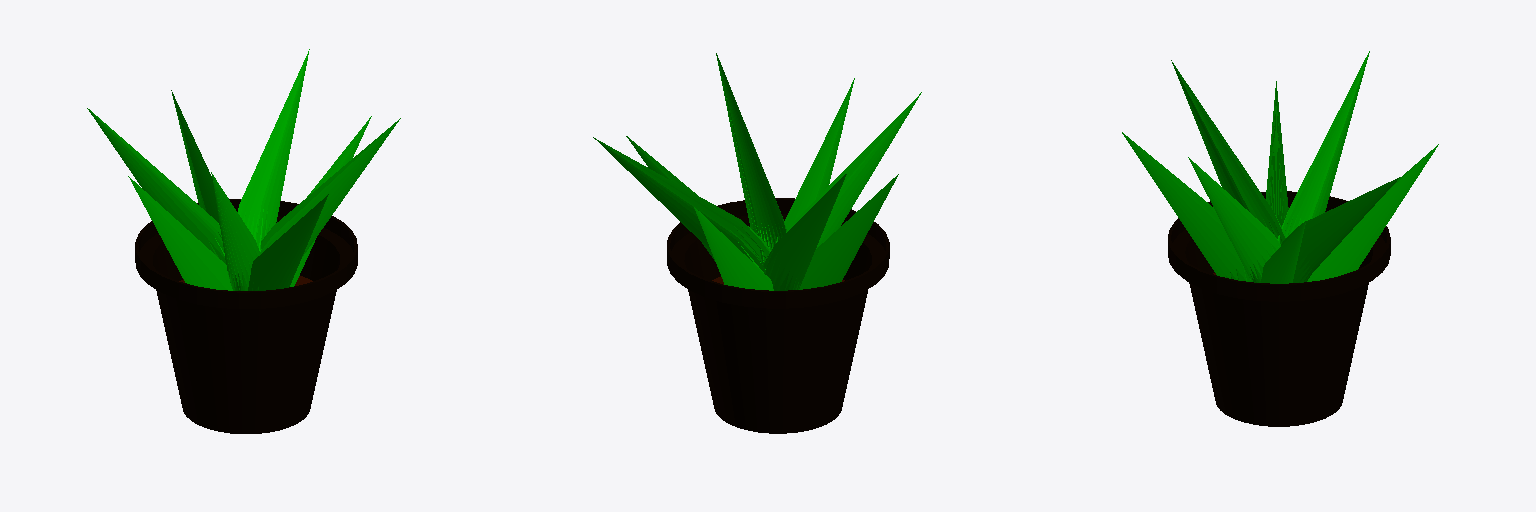
Rendered from Pflanze.obj.
The picture shows the model from 3 angles: view 1: azimuth 30°, elevation 25°; view 2: azimuth 150°, elevation 25°; view 3: azimuth 270°, elevation 25°; orthographic projection.
Visible parts, largest first — view 1: Topf, Blatt.004, Blatt.005, Blatt.003, Blatt.006, Blatt.001, Blatt.007, Blatt, Blatt.002; view 2: Topf, Blatt.004, Blatt.006, Blatt.005, Blatt.003, Blatt.007, Blatt, Blatt.001, Blatt.002; view 3: Topf, Blatt.001, Blatt.005, Blatt.007, Blatt, Blatt.006, Blatt.004, Blatt.003, Blatt.002.
Boxes of the visible parts, x1=… form: Topf: x1=135, y1=199, x2=357, y2=433; Blatt.004: x1=238, y1=49, x2=309, y2=251; Blatt.005: x1=87, y1=108, x2=225, y2=263; Blatt.003: x1=128, y1=176, x2=232, y2=290; Blatt.006: x1=259, y1=118, x2=400, y2=256; Blatt.001: x1=248, y1=194, x2=328, y2=290; Blatt.007: x1=211, y1=172, x2=259, y2=290; Blatt: x1=171, y1=90, x2=219, y2=224; Blatt.002: x1=290, y1=116, x2=371, y2=286; Topf: x1=667, y1=198, x2=889, y2=433; Blatt.004: x1=593, y1=137, x2=770, y2=273; Blatt.006: x1=716, y1=53, x2=786, y2=265; Blatt.005: x1=764, y1=174, x2=846, y2=290; Blatt.003: x1=799, y1=174, x2=898, y2=289; Blatt.007: x1=786, y1=92, x2=921, y2=248; Blatt: x1=694, y1=207, x2=773, y2=290; Blatt.001: x1=776, y1=78, x2=854, y2=242; Blatt.002: x1=626, y1=136, x2=714, y2=260; Topf: x1=1168, y1=191, x2=1390, y2=426; Blatt.001: x1=1122, y1=132, x2=1250, y2=281; Blatt.005: x1=1277, y1=51, x2=1369, y2=242; Blatt.007: x1=1171, y1=60, x2=1286, y2=243; Blatt: x1=1307, y1=144, x2=1438, y2=281; Blatt.006: x1=1188, y1=157, x2=1280, y2=282; Blatt.004: x1=1281, y1=177, x2=1399, y2=282; Blatt.003: x1=1266, y1=81, x2=1288, y2=226; Blatt.002: x1=1261, y1=221, x2=1305, y2=283.
Bounding box in the file's own units: 0.9377 × 1.02 × 0.9989.